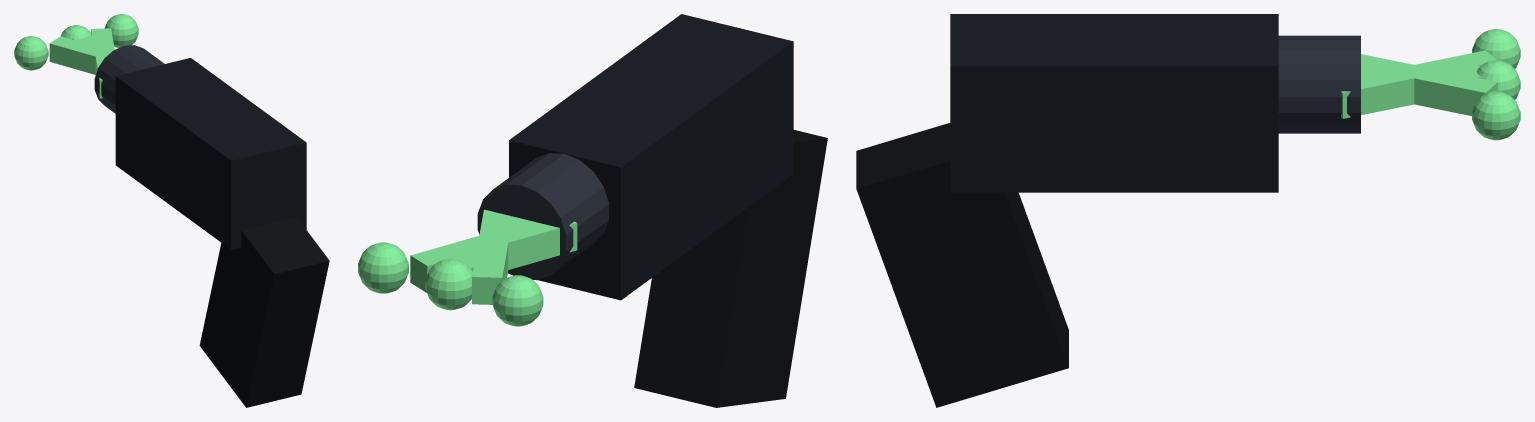
The model's file is forkbomb.glb.
The picture shows the model from 3 angles, left to right: view 1: azimuth 30°, elevation 25°; view 2: azimuth 150°, elevation 25°; view 3: azimuth 270°, elevation 25°; orthographic projection. The views are drawn at different scales.
Visible parts, largest first — view 1: Cube, Cube.001, Cylinder, Cube.003, Sphere, Sphere.002, Cube.004, Sphere.001, Cube.002; view 2: Cube, Cube.001, Cylinder, Cube.004, Sphere, Sphere.002, Sphere.001, Cube.003, Cube.002; view 3: Cube, Cube.001, Cylinder, Cube.004, Cube.003, Sphere.002, Cube.002, Sphere, Sphere.001.
Boxes of the visible parts, x1,y1,x2,y2 form: Cube: (115,58,306,249); Cube.001: (199,216,329,407); Cylinder: (94,45,164,113); Cube.003: (49,36,111,74); Sphere: (14,36,48,70); Sphere.002: (104,14,138,47); Cube.004: (91,28,114,98); Sphere.001: (61,25,91,39); Cube.002: (72,34,111,60); Cube: (509,14,793,300); Cube.001: (634,130,827,407); Cylinder: (477,153,608,280); Cube.004: (410,221,577,292); Sphere: (492,275,543,326); Sphere.002: (358,242,408,293); Sphere.001: (425,258,472,310); Cube.003: (472,209,510,304); Cube.002: (450,215,533,271); Cube: (950,14,1278,192); Cube.001: (856,123,1068,407); Cylinder: (1278,35,1360,133); Cube.004: (1361,54,1497,115); Cube.003: (1341,50,1496,118); Sphere.002: (1472,91,1520,140); Cube.002: (1361,65,1482,78); Sphere: (1472,29,1520,68); Sphere.001: (1476,60,1520,99).
Size of the model in its own units: 0.4764 by 0.9377 by 1.62.
